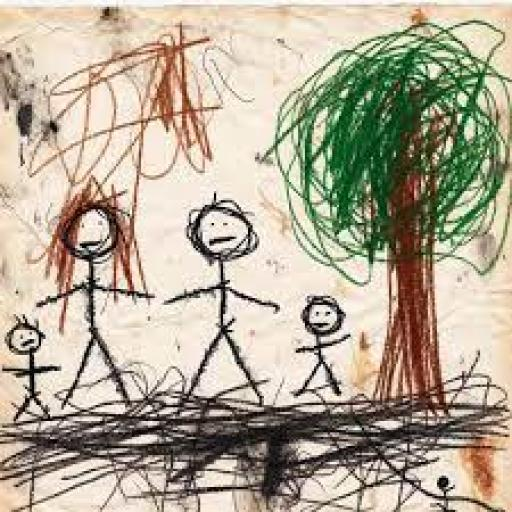person: (41, 188, 163, 426), (169, 183, 279, 417), (283, 284, 373, 411), (0, 321, 65, 429)
